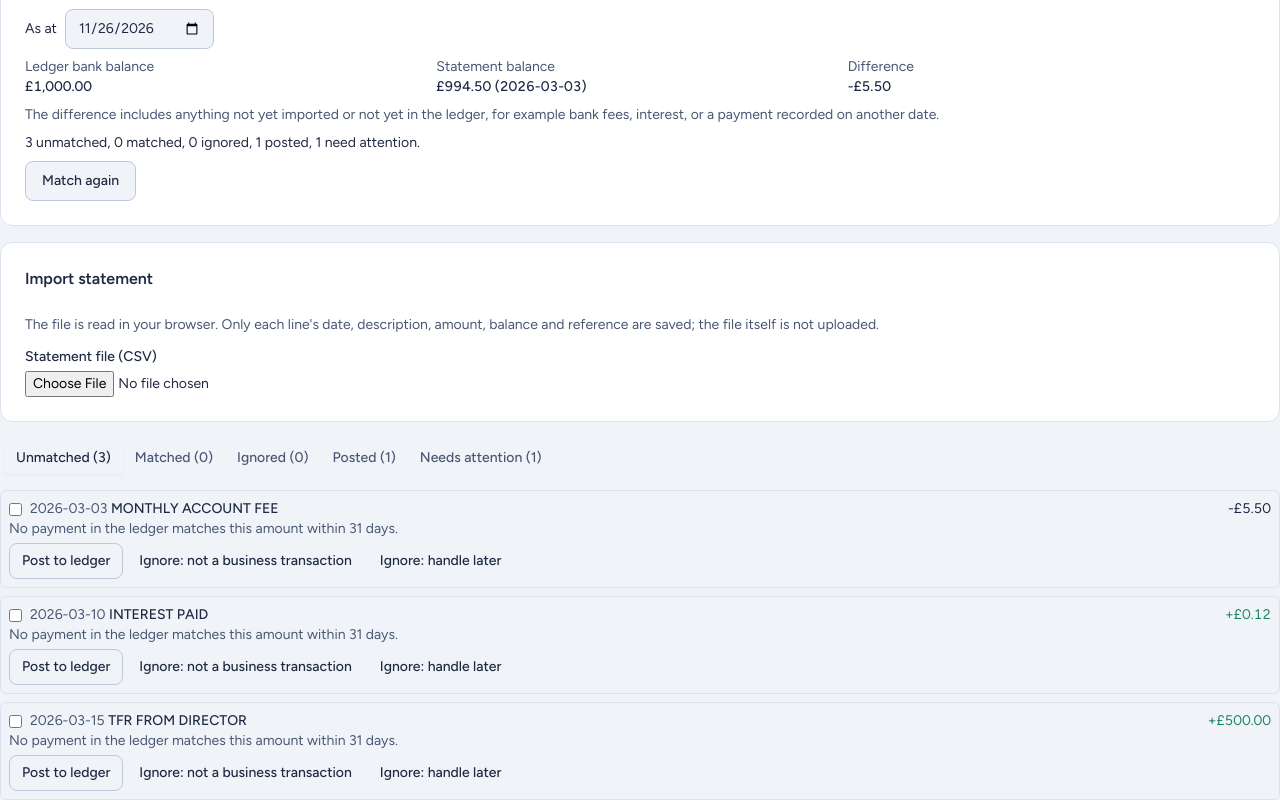
Scenario: Bank: post selected › tick lines, one account for all, the list and total, one call
(page scrolled)
Expected: the text "MONTHLY ACCOUNT FEE" is shown, [111,500,279,517]
Click the checkbox named "Select MONTHLY ACCOUNT FEE".
click(16, 510)  # box [9,503,22,516]
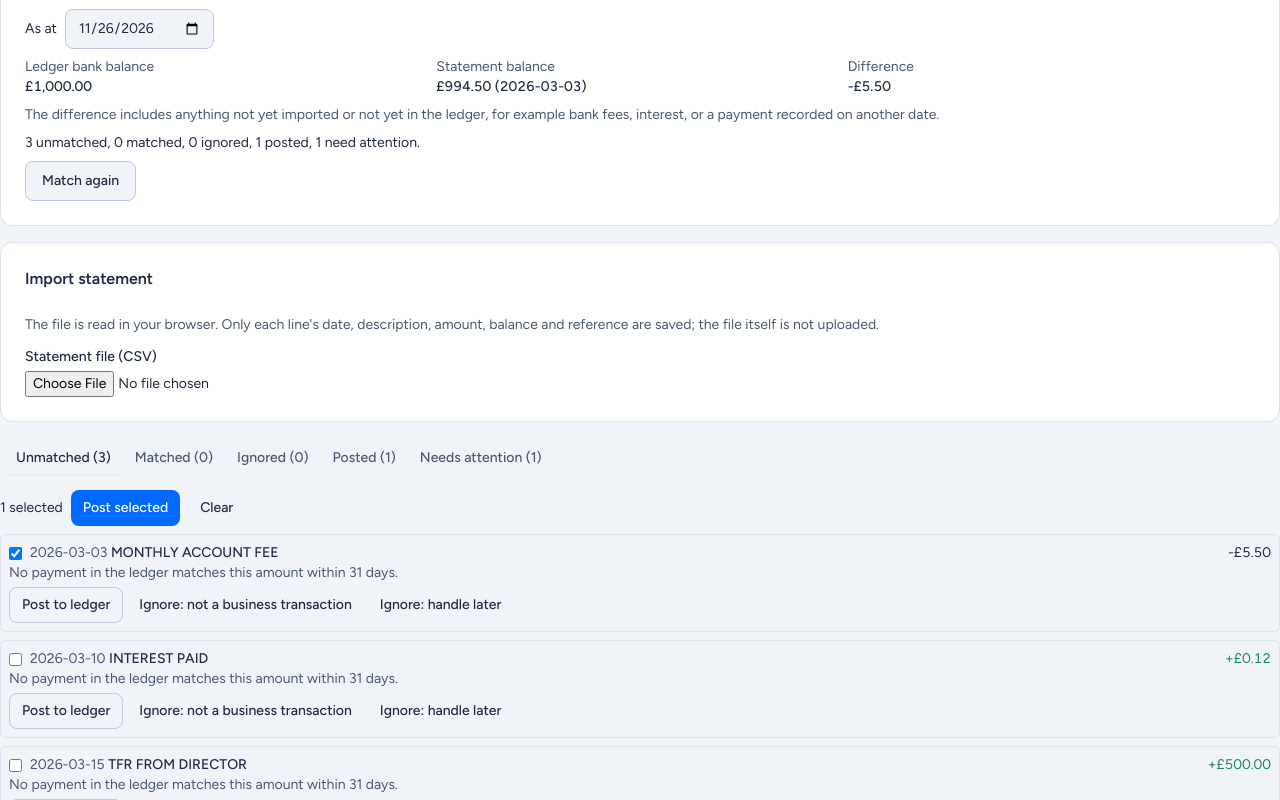
Click the checkbox named "Select INTEREST PAID".
click(16, 660)  # box [9,653,22,666]
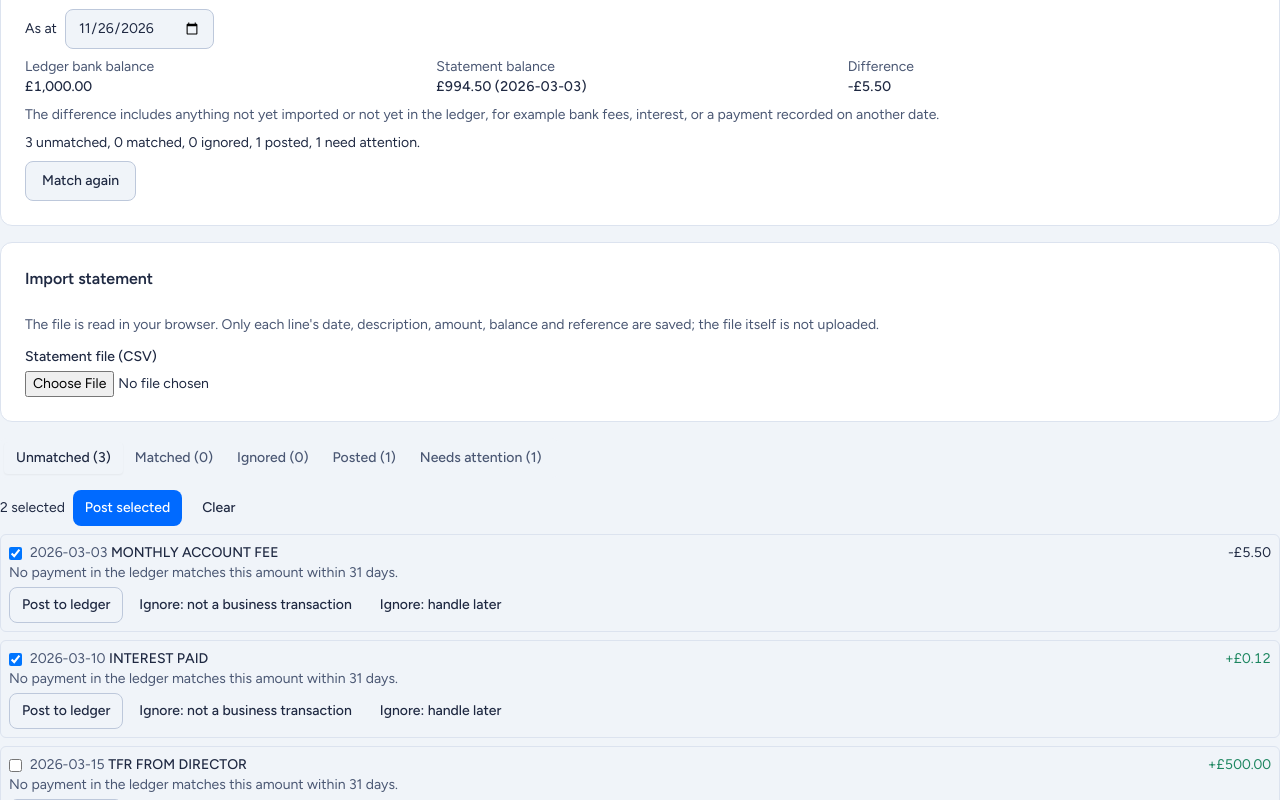
Result: the element with test id "bank-selection" shows "2 selected" at [0,490,247,526]
Click the button "Post selected".
click(128, 508)  # box [73,490,182,526]
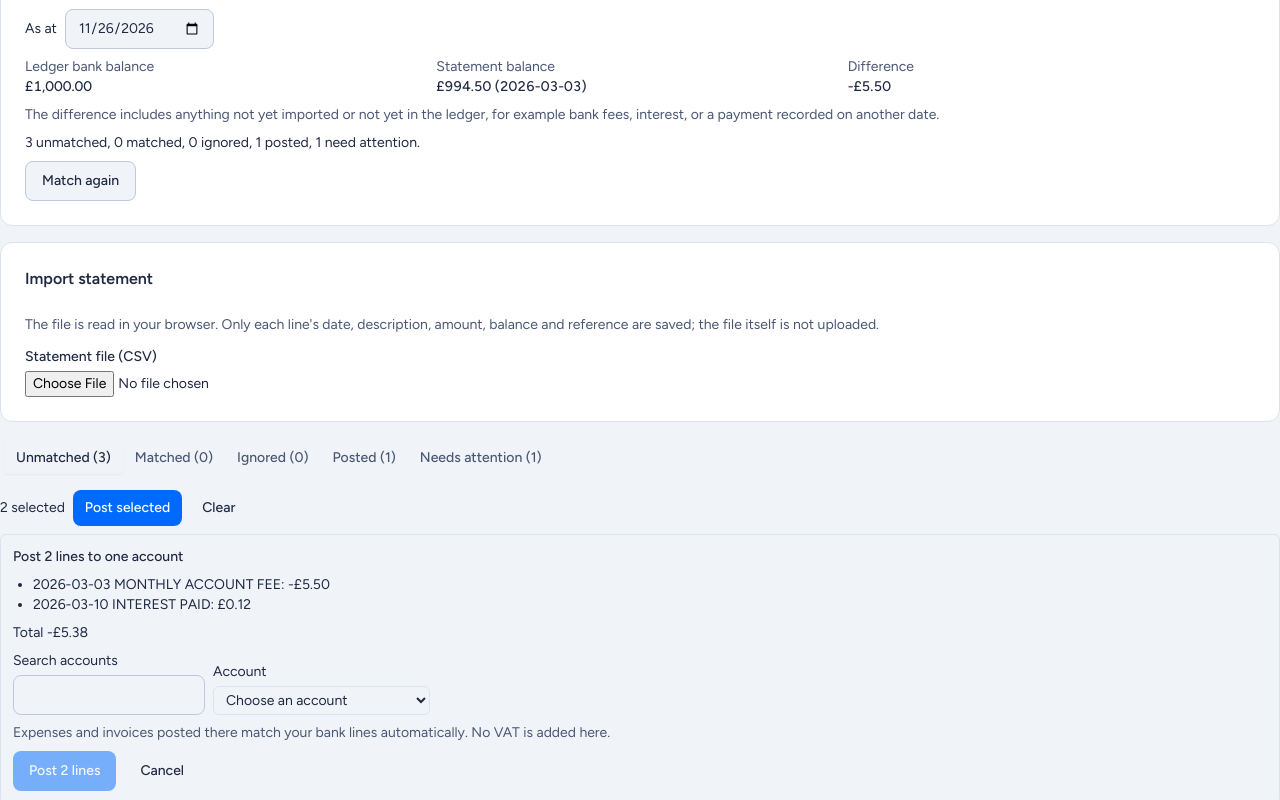
Result: the text with test id "bank-bulk-total" reads "Total -£5.38" at [13,624,88,641]
Result: the button "Post 2 lines" is disabled at [13,751,116,791]
Select "8200 Other overheads" in the dropdown labelled "Account" at (322, 700), box [213,686,430,715]
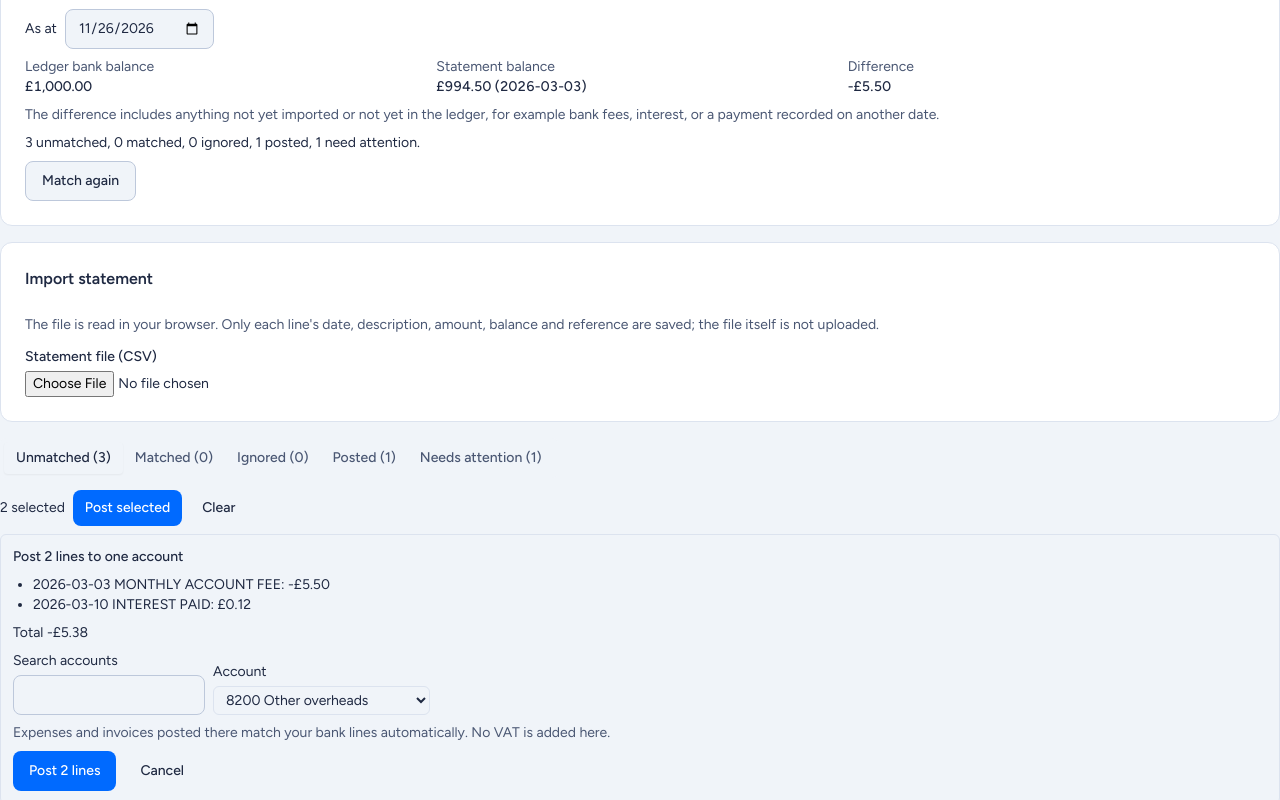
Click the button "Post 2 lines".
click(65, 771)  # box [13,751,116,791]
(page scrolled)
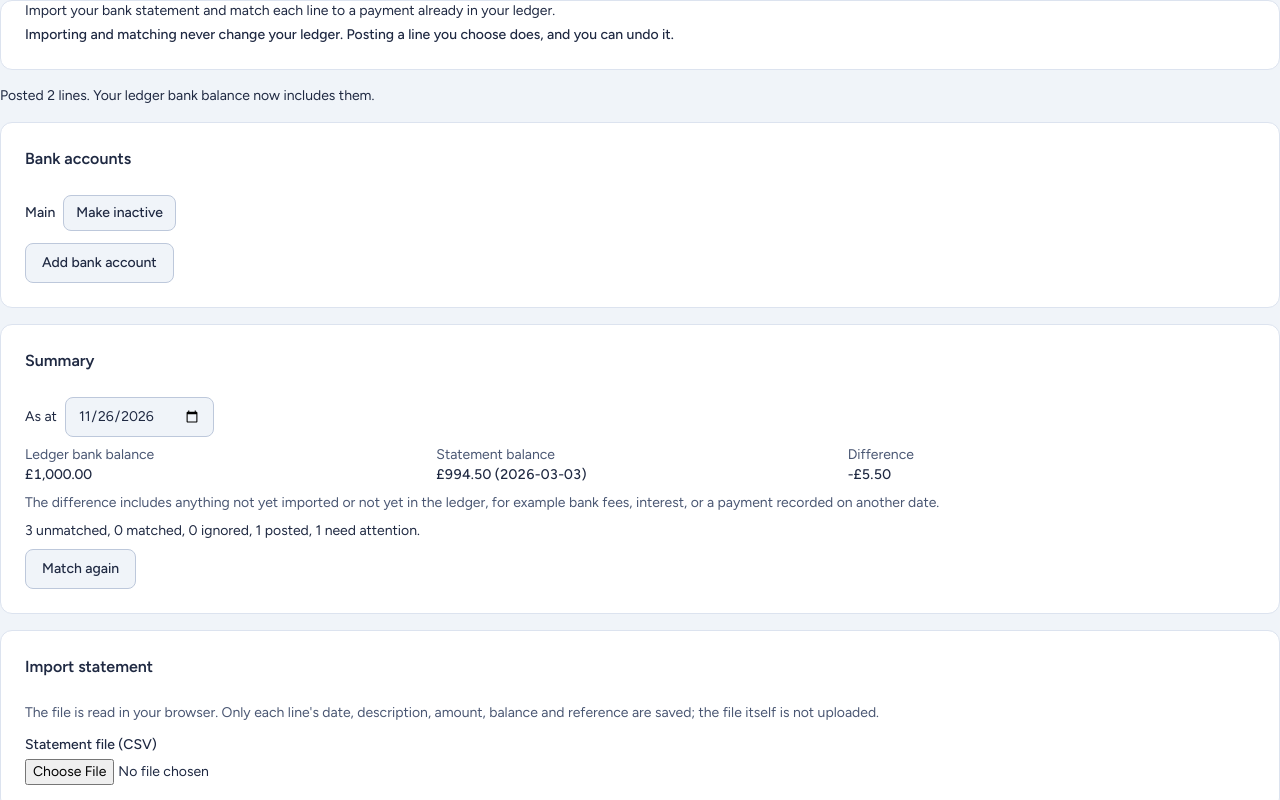
Result: the message with test id "bank-message" reads "Posted 2 lines. Your ledger bank balance now includes them." at [0,87,374,104]
